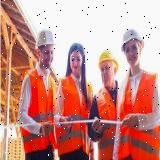Helmet: (120, 27, 144, 53), (35, 28, 57, 50), (98, 50, 120, 70)
Vest: (118, 67, 160, 160), (19, 67, 58, 151), (56, 74, 93, 156), (95, 85, 126, 159)
